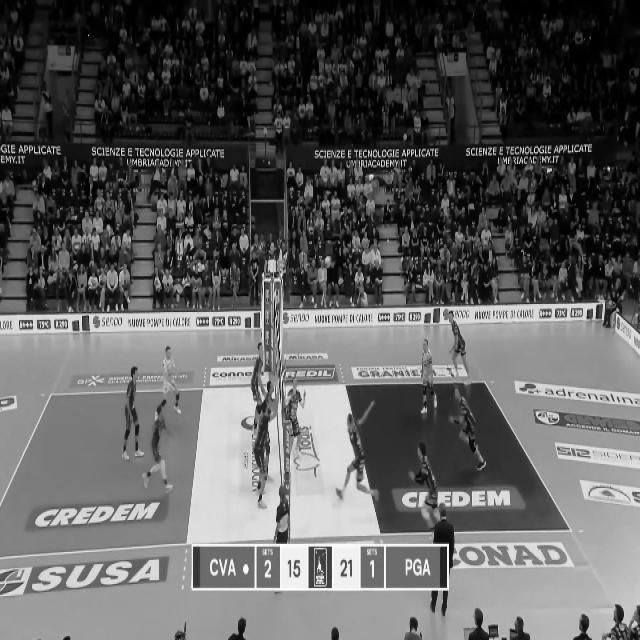volleyball court: (2, 378, 570, 561)
